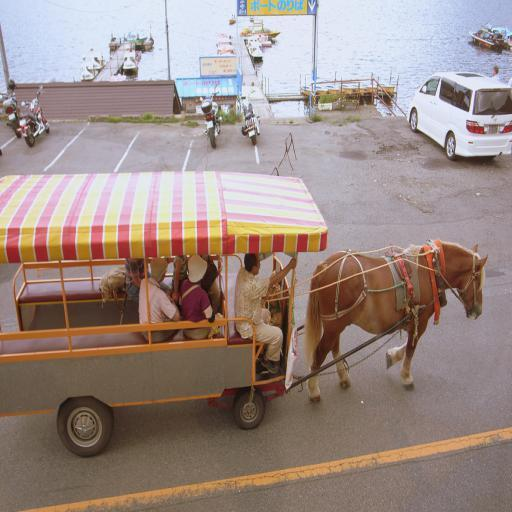horse: (304, 244, 486, 402)
